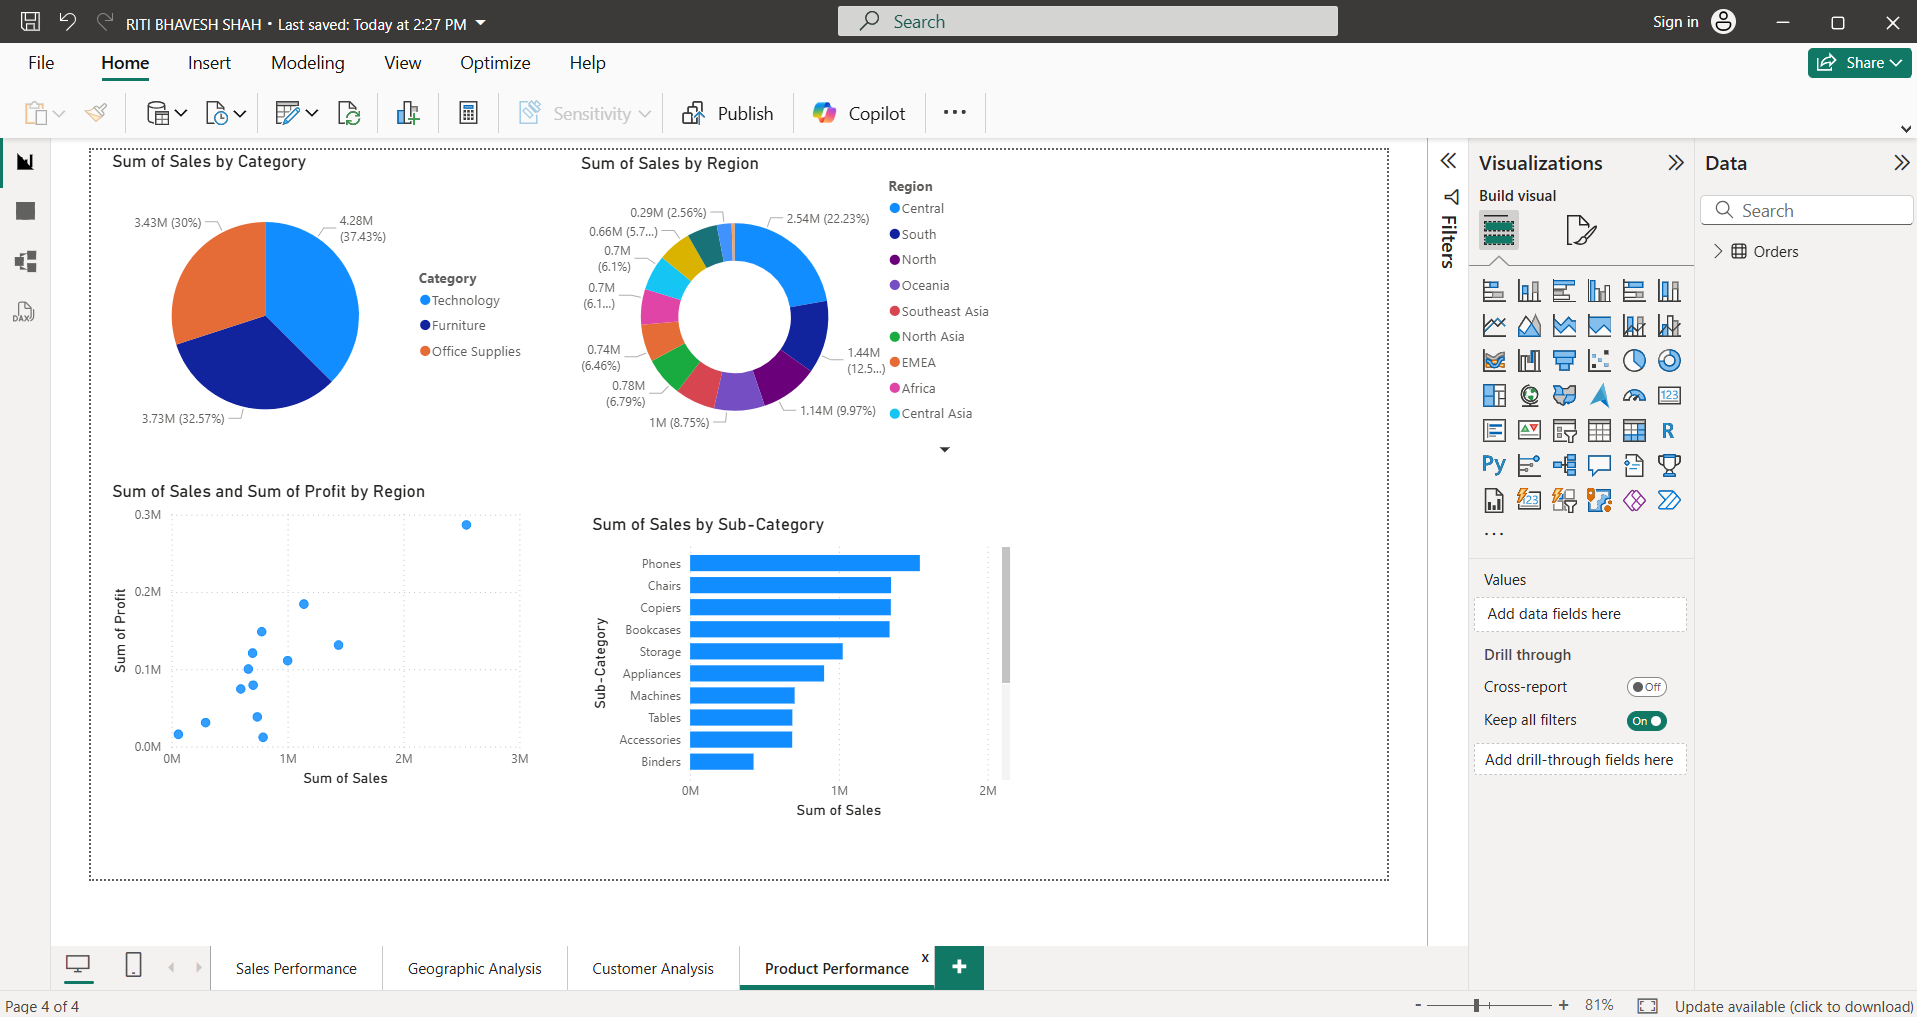

Layout of this report page (visuals, bound fields, positions):
{"tool":"powerbi","page":{"name":"Product Performance","canvas":[1280,720],"ordinal":3},"visuals":[{"type":"scatterChart","fields":{"X":["Sum(Orders.Sales)"],"Y":["Sum(Orders.Profit)"],"Category":["Orders.Region"]},"box":[16.5,326.6,421.3,306],"z":0},{"type":"pieChart","fields":{"Y":["Sum(Orders.Sales)"],"Category":["Orders.Category"]},"box":[16.5,1.4,422.6,306],"z":1000},{"type":"barChart","fields":{"Y":["Sum(Orders.Sales)"],"Category":["Orders.Sub-Category"]},"box":[489.9,359.5,422.6,306],"z":2000},{"type":"donutChart","fields":{"Y":["Sum(Orders.Sales)"],"Category":["Orders.Region"]},"box":[478.9,2.7,422.6,306],"z":3000}]}

Visuals, with their boxes on the page's 1280x720 design canvas (x1, y1, x2, y2). These are canvas units, not pixel positions in the 1917x1017 screenshot, which may show the page scaled, cropped or inside an application window:
scatterChart - Sum(Orders.Sales) x Sum(Orders.Profit): [16,327,438,633]
pieChart - Sum(Orders.Sales) x Orders.Category: [16,1,439,307]
barChart - Sum(Orders.Sales) x Orders.Sub-Category: [490,360,912,666]
donutChart - Sum(Orders.Sales) x Orders.Region: [479,3,902,309]
